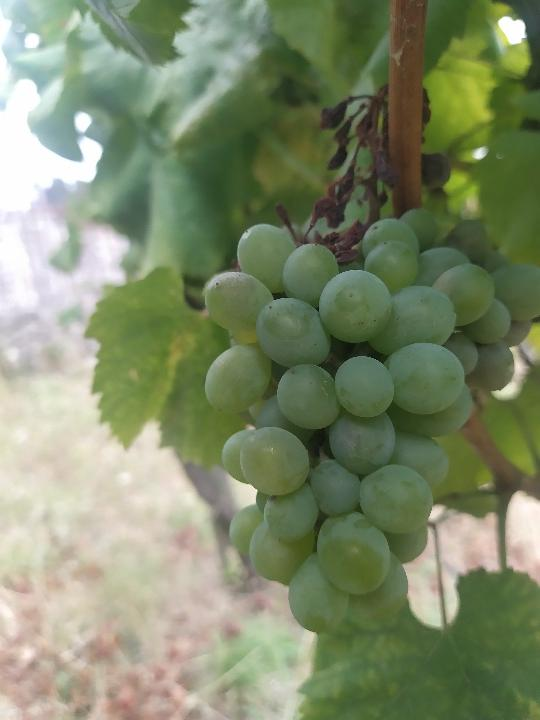grape: (198, 79, 540, 638)
